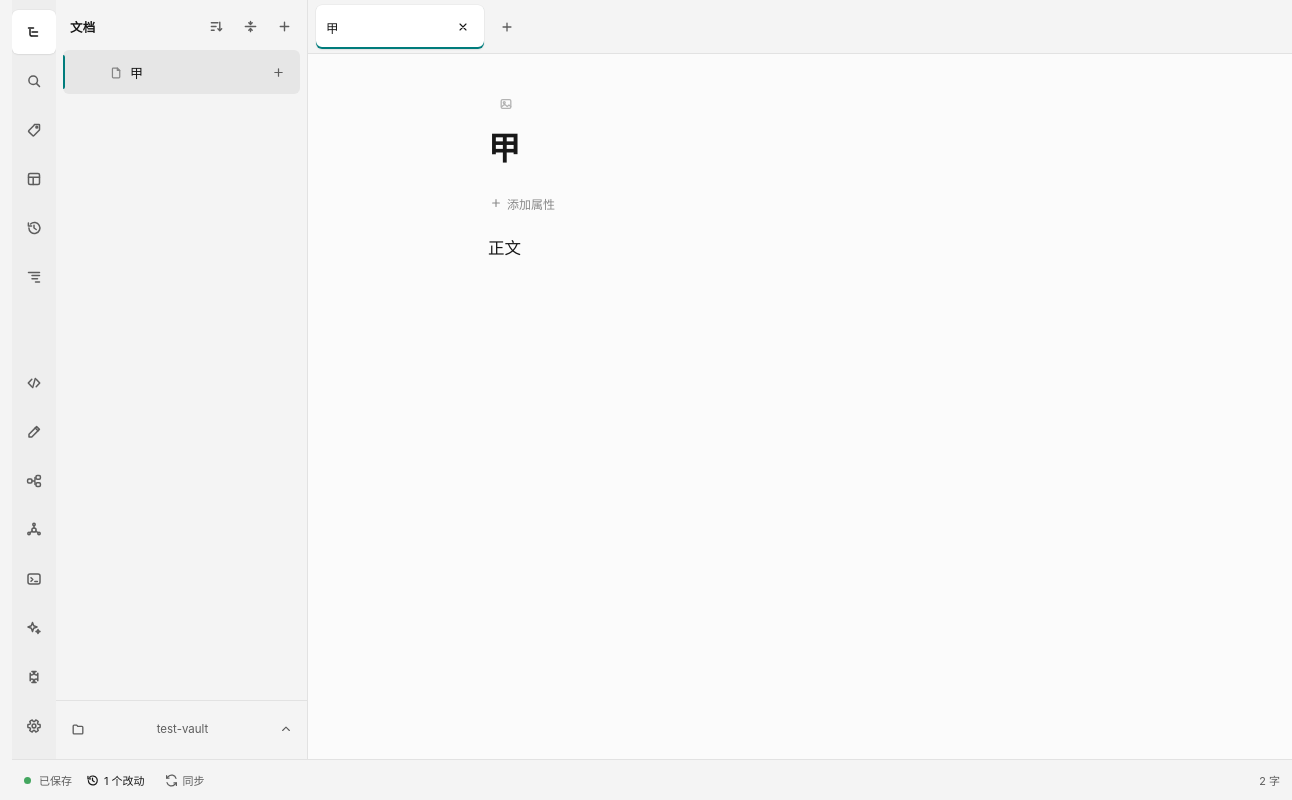
Test: 版本记录点 › 编辑器没有未保存内容时直接提交，不重写外部 AI 改过的文件
The image size is (1292, 800).
Step 1. Click the button with class "status-git" showing "1 个改动" → (115, 780), box [80, 764, 151, 796]
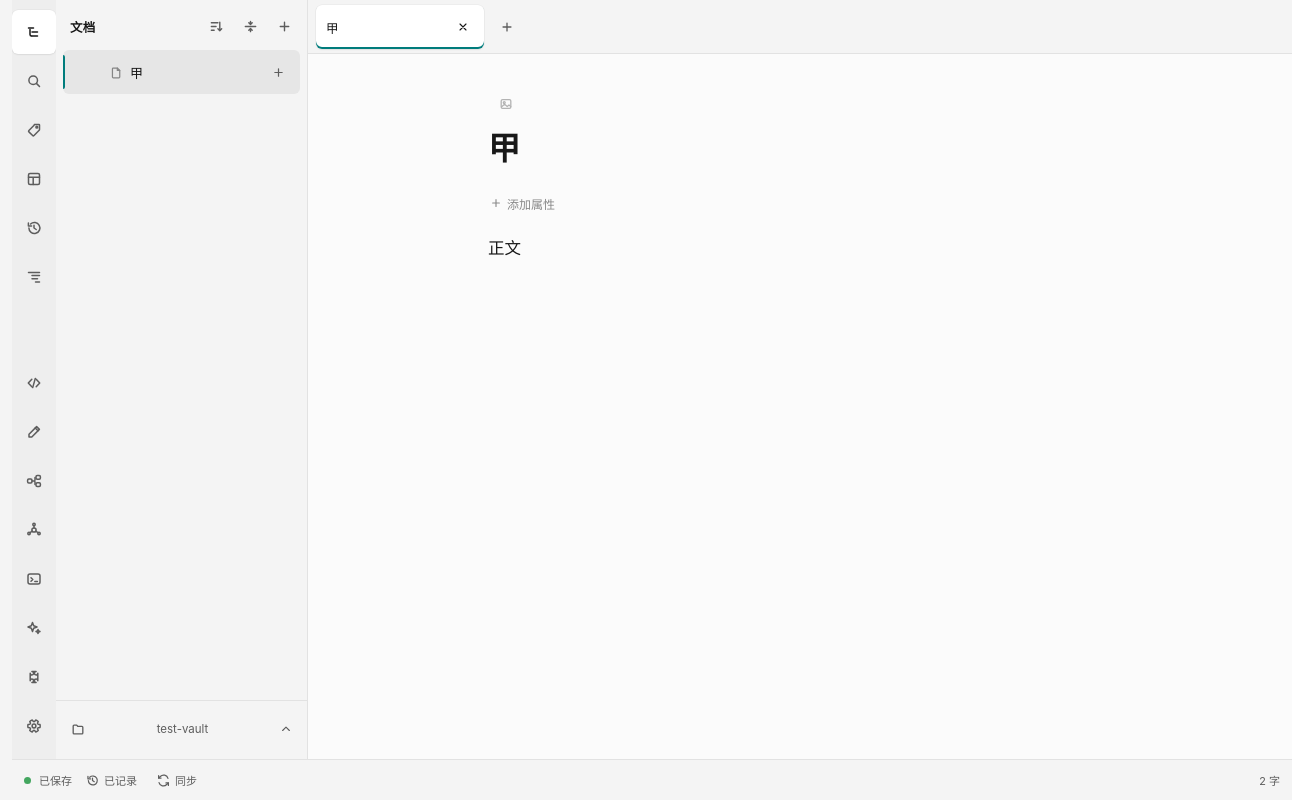
Expected: the button with class "status-git" reads "已记录", [80, 764, 143, 796]
